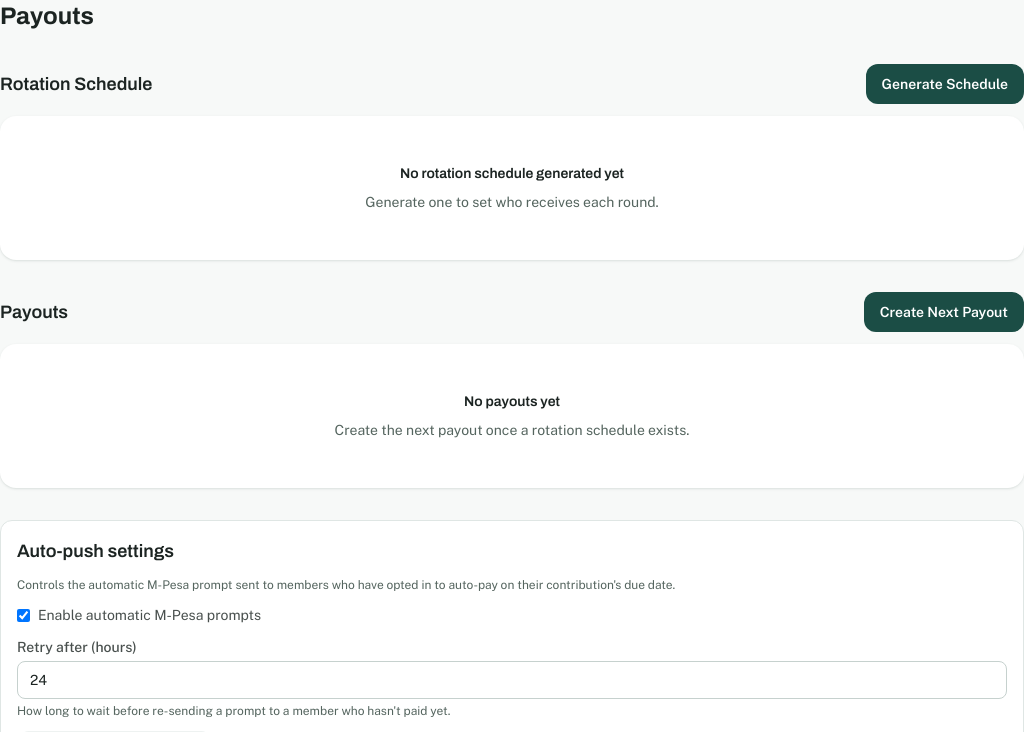
Test: PayoutsPage › shows the backend error message when generating a schedule fails
Expected: the text "No rotation schedule generated yet" is shown, [400, 164, 624, 184]
Click the button "Generate Schedule" at (945, 84), box [866, 64, 1023, 104]
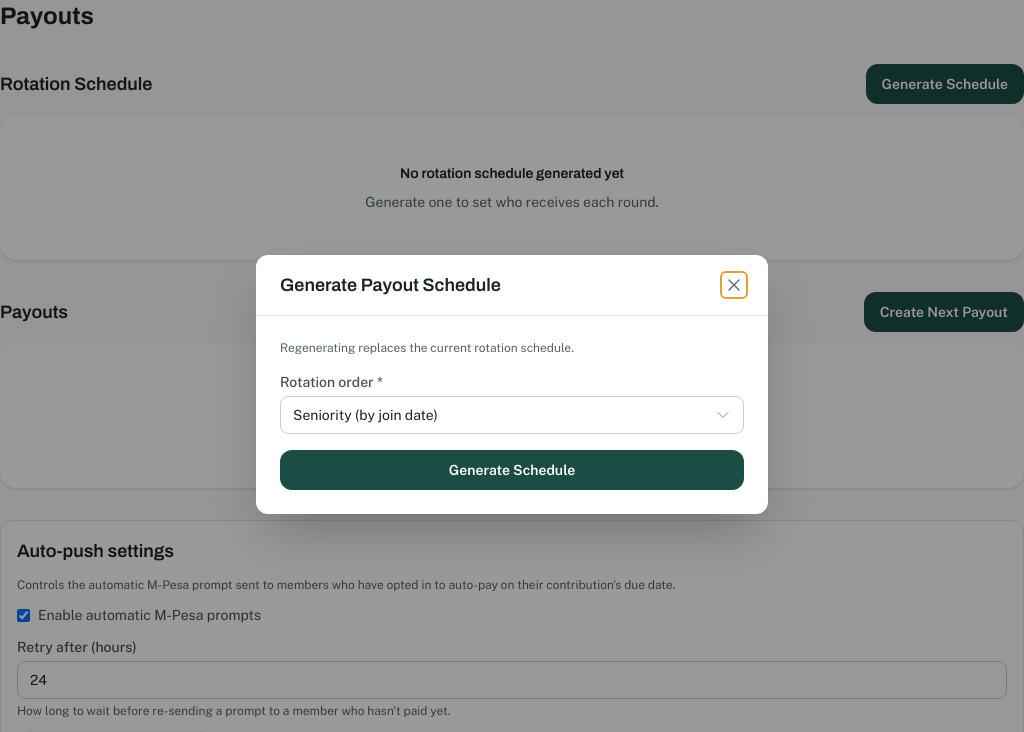
Click the button "Generate Schedule" at (512, 470), box [280, 450, 744, 490]
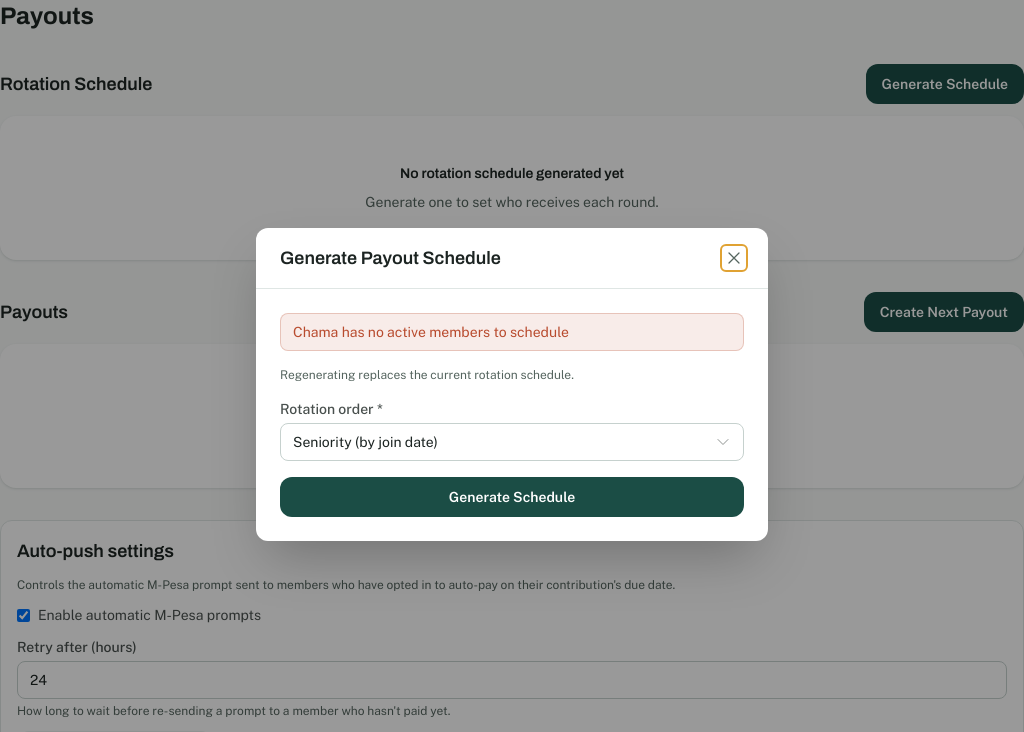
Expected: the text "Chama has no active members to schedule" is shown, [280, 312, 744, 350]
